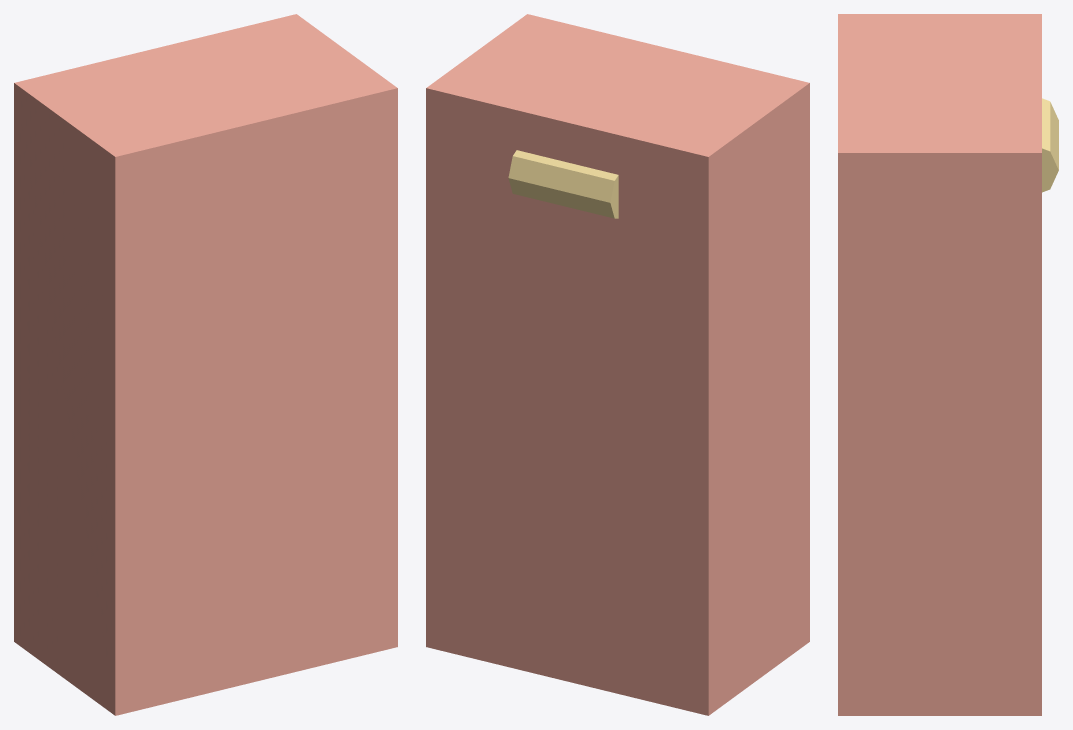
Rendered from peritoneum.glb.
3 renders of one model, left to right at view 1: azimuth 30°, elevation 25°; view 2: azimuth 150°, elevation 25°; view 3: azimuth 270°, elevation 25°, orthographic.
Parts seen in each view (by area): view 1: Anterior Abdominal Wall, Abdominal Wall; view 2: Abdominal Wall, Pancreas; view 3: Abdominal Wall, Pancreas.
Part boxes in pixels (x1=…): Anterior Abdominal Wall: x1=126, y1=111, x2=387, y2=692; Abdominal Wall: x1=14, y1=14, x2=397, y2=715; Abdominal Wall: x1=426, y1=14, x2=809, y2=715; Pancreas: x1=508, y1=150, x2=618, y2=218; Abdominal Wall: x1=838, y1=14, x2=1041, y2=715; Pancreas: x1=1042, y1=98, x2=1058, y2=192.
Size of the model in its own units: 4.39 by 8.3 by 2.95.
